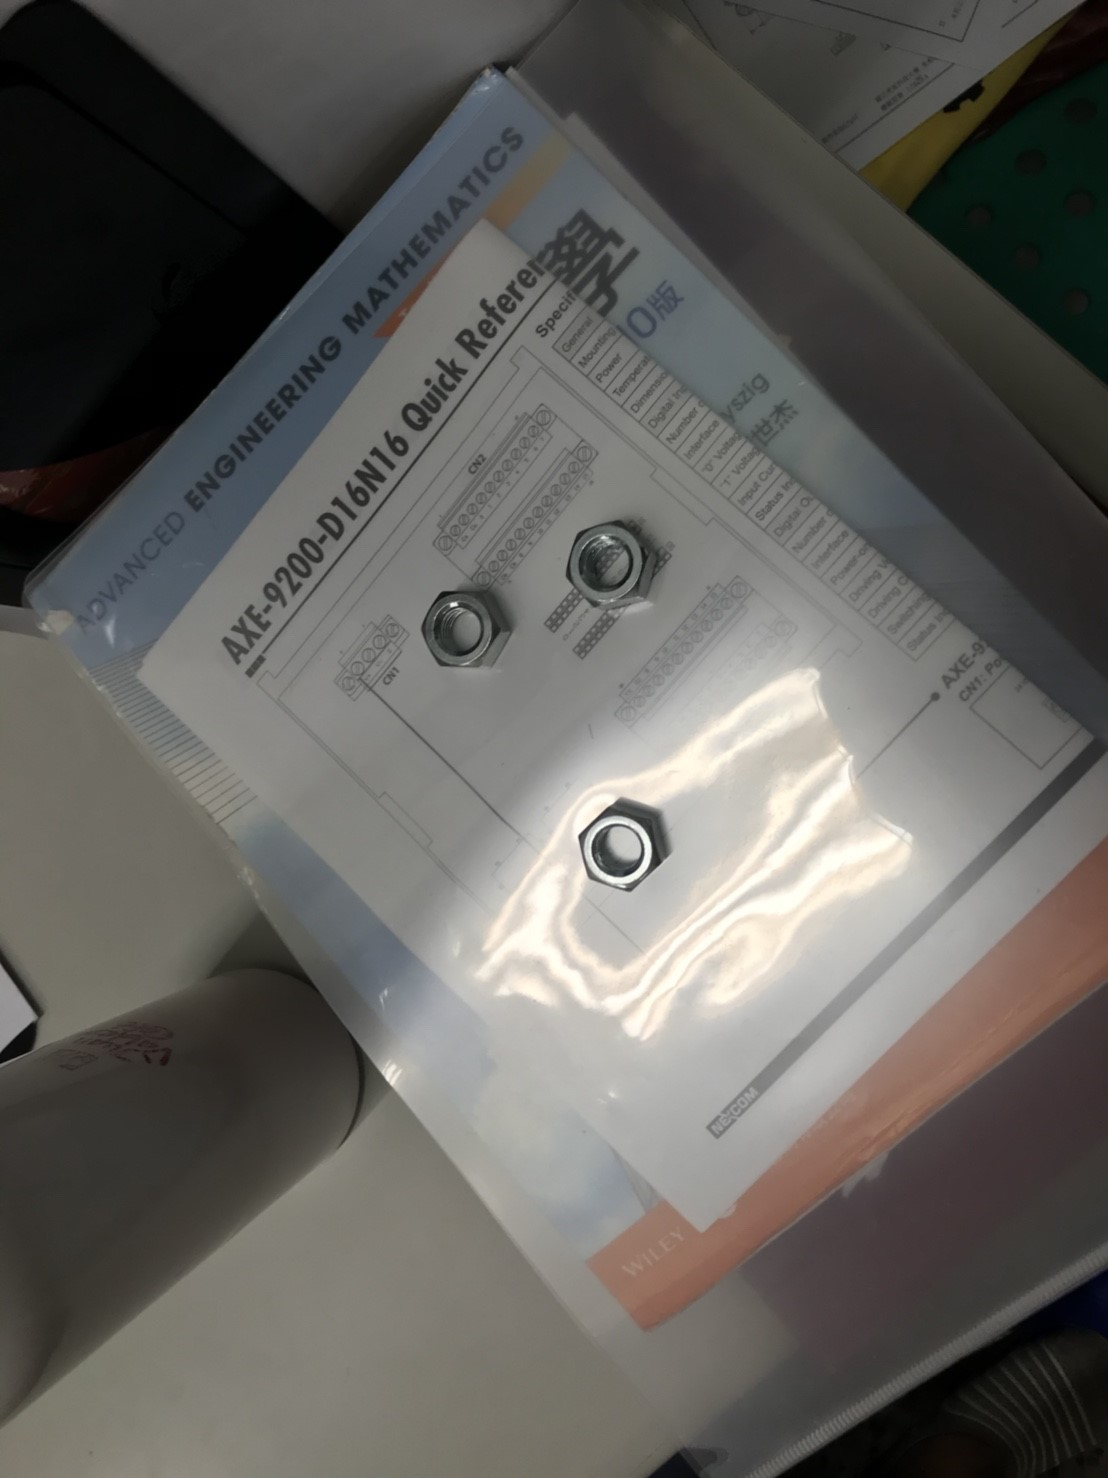nut: (571, 797, 675, 893), (421, 587, 514, 672), (568, 523, 658, 610)
